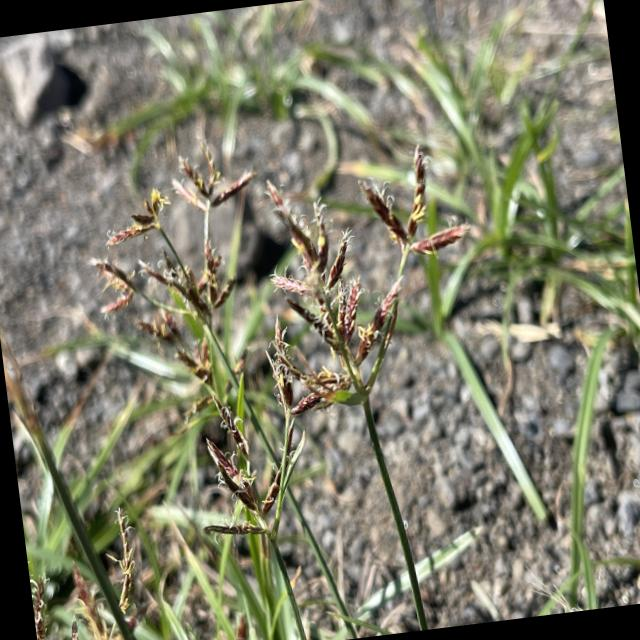cyperus: (240, 136, 486, 436), (86, 146, 262, 414), (178, 388, 324, 566), (22, 497, 160, 640)
